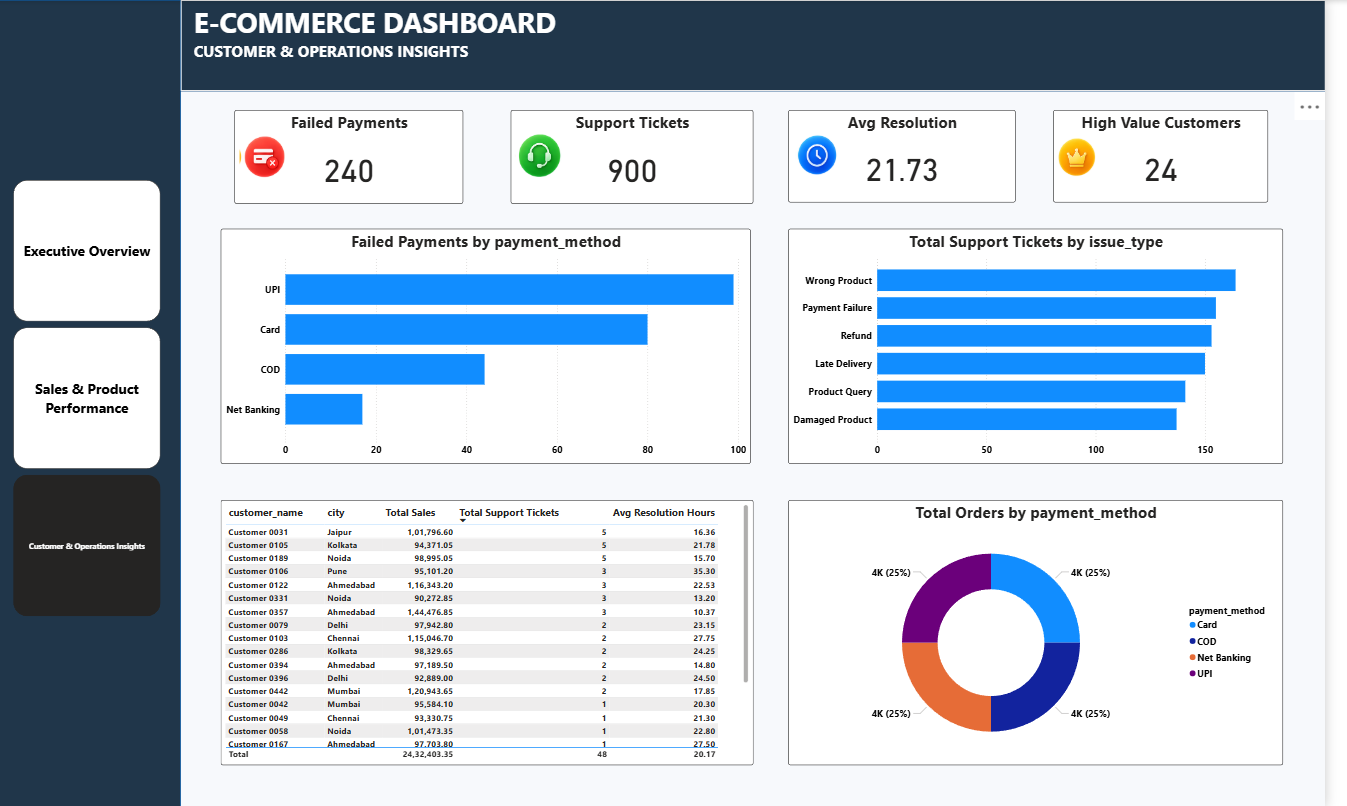

The dashboard page shown, as its layout file describes it:
{"tool":"powerbi","page":{"name":"Customer & Operations Insights","canvas":[2300,1400],"ordinal":2},"visuals":[{"type":"card","title":"Failed Payments","fields":{"Values":["ecommerce_ai payments.Failed Payments"]},"box":[411.3,190.5,396.1,162.3],"z":0},{"type":"shape","box":[0,0,318.2,1400.4],"z":1000},{"type":"shape","box":[318.2,0,1982.7,158],"z":2000},{"type":"card","title":"Support Tickets","fields":{"Values":["ecommerce_ai support_tickets.Total Support Tickets"]},"box":[889.6,190.5,419.9,162.3],"z":3000},{"type":"card","title":"Avg Resolution","fields":{"Values":["ecommerce_ai support_tickets.Avg Resolution Hours"]},"box":[1370.1,190.5,393.9,160.2],"z":4000},{"type":"card","title":"High Value Customers","fields":{"Values":["ecommerce_ai customers.High Value Customers"]},"box":[1829,190.5,372.3,160.2],"z":5000},{"type":"clusteredBarChart","fields":{"Category":["ecommerce_ai payments.payment_method"],"Y":["ecommerce_ai payments.Failed Payments"]},"box":[387.4,396.1,917.8,406.9],"z":6000},{"type":"clusteredBarChart","fields":{"Category":["ecommerce_ai support_tickets.issue_type"],"Y":["ecommerce_ai support_tickets.Total Support Tickets"]},"box":[1370.1,396.1,857.1,406.9],"z":7000},{"type":"tableEx","fields":{"Values":["ecommerce_ai customers.customer_name","ecommerce_ai customers.city","ecommerce_ai orders.Total Sales","ecommerce_ai support_tickets.Total Support Tickets","ecommerce_ai support_tickets.Avg Resolution Hours"]},"box":[387.4,865.8,922.1,458.9],"z":8000},{"type":"donutChart","fields":{"Category":["ecommerce_ai payments.payment_method"],"Y":["ecommerce_ai orders.Total Orders"]},"box":[1370.1,865.8,857.1,458.9],"z":9000},{"type":"textbox","box":[335.5,0,891.8,80.1],"z":10000},{"type":"textbox","box":[335.5,64.9,510.8,77.9],"z":11000},{"type":"pageNavigator","box":[28.1,311.7,255.4,755.4],"z":12000},{"type":"image","box":[411.3,216.5,95.2,95.2],"z":12001},{"type":"image","box":[889.6,212.1,95.2,99.6],"z":12002},{"type":"image","box":[1370.1,216.5,97.4,90.9],"z":12003},{"type":"image","box":[1829,212.1,86.6,106.1],"z":12004}]}

Visuals, with their boxes on the page's 2300x1400 design canvas (x1, y1, x2, y2). These are canvas units, not pixel positions in the 1347x806 screenshot, which may show the page scaled, cropped or inside an application window:
"Failed Payments" card: bbox=(411, 190, 807, 353)
shape: bbox=(0, 0, 318, 1400)
shape: bbox=(318, 0, 2301, 158)
"Support Tickets" card: bbox=(890, 190, 1310, 353)
"Avg Resolution" card: bbox=(1370, 190, 1764, 351)
"High Value Customers" card: bbox=(1829, 190, 2201, 351)
clusteredBarChart - ecommerce_ai payments.payment_method x ecommerce_ai payments.Failed Payments: bbox=(387, 396, 1305, 803)
clusteredBarChart - ecommerce_ai support_tickets.issue_type x ecommerce_ai support_tickets.Total Support Tickets: bbox=(1370, 396, 2227, 803)
tableEx - ecommerce_ai customers.customer_name x ecommerce_ai customers.city: bbox=(387, 866, 1310, 1325)
donutChart - ecommerce_ai payments.payment_method x ecommerce_ai orders.Total Orders: bbox=(1370, 866, 2227, 1325)
textbox: bbox=(336, 0, 1227, 80)
textbox: bbox=(336, 65, 846, 143)
pageNavigator: bbox=(28, 312, 284, 1067)
image: bbox=(411, 216, 506, 312)
image: bbox=(890, 212, 985, 312)
image: bbox=(1370, 216, 1468, 307)
image: bbox=(1829, 212, 1916, 318)
